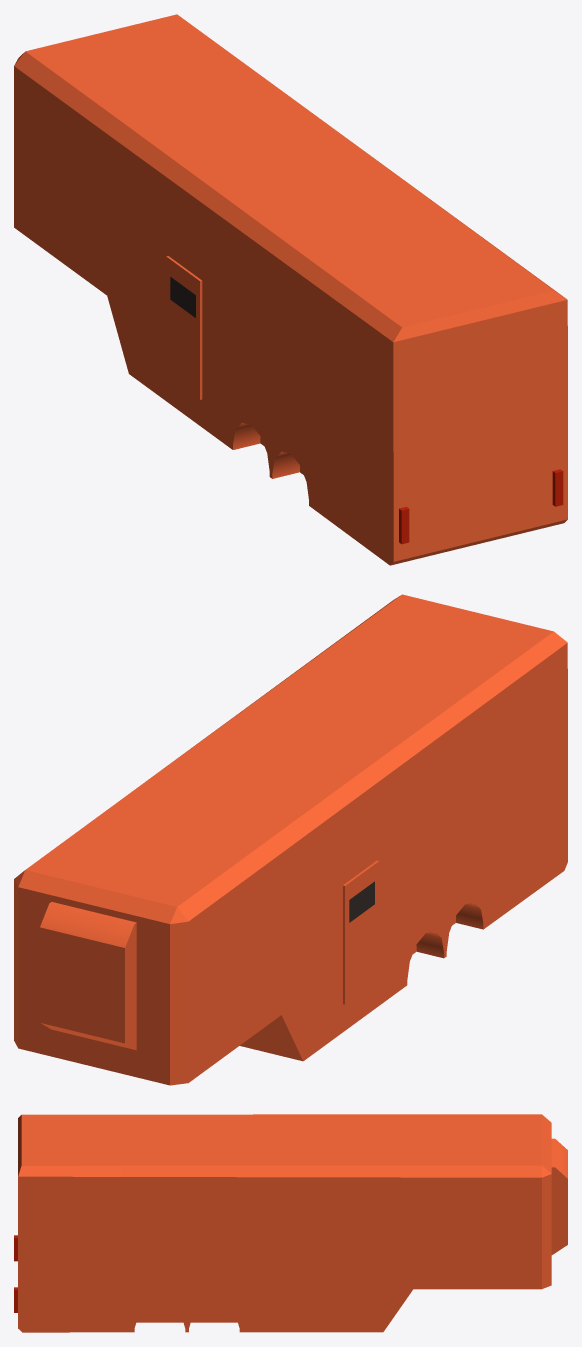
File: teamtruck_back.fbx
3 renders of one model, top to bottom at view 1: azimuth 30°, elevation 25°; view 2: azimuth 150°, elevation 25°; view 3: azimuth 270°, elevation 25°, orthographic. The views are drawn at different scales.
Visible parts, largest first — view 1: teamtruck_back; view 2: teamtruck_back; view 3: teamtruck_back.
Boxes of the visible parts, bbox=[...] form: teamtruck_back: bbox=[14, 14, 567, 565]; teamtruck_back: bbox=[14, 594, 567, 1085]; teamtruck_back: bbox=[14, 1114, 567, 1332].
Bounding box in the file's own units: 247 × 971 × 316.
